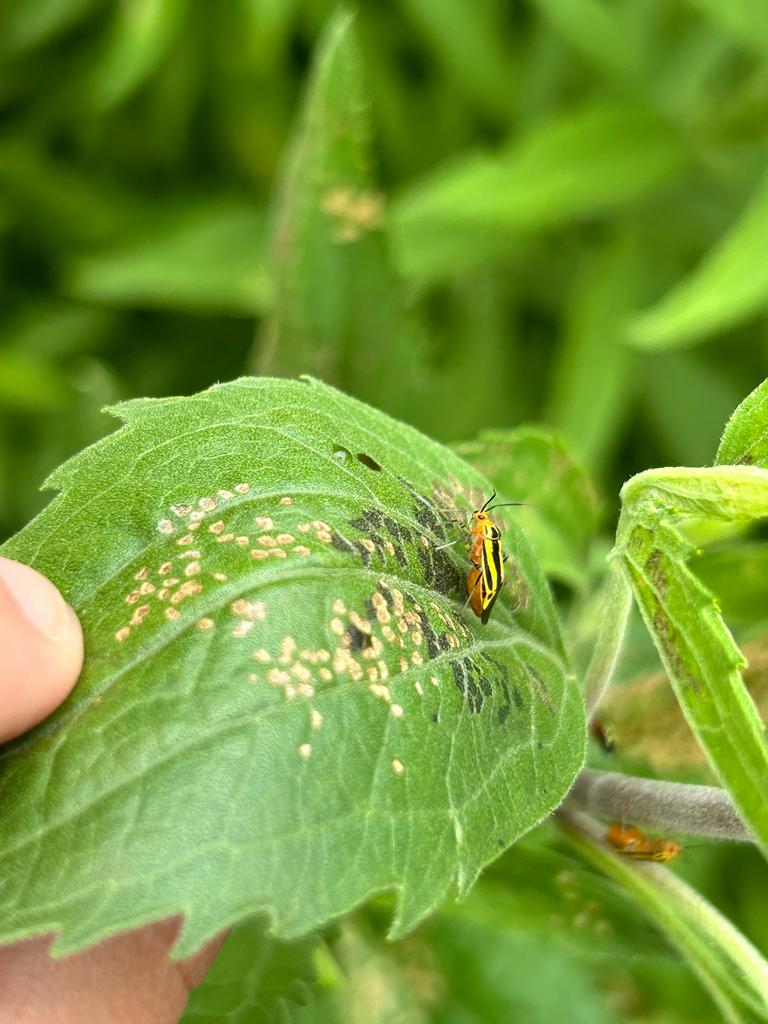plant_bugs: (414, 469, 563, 639)
